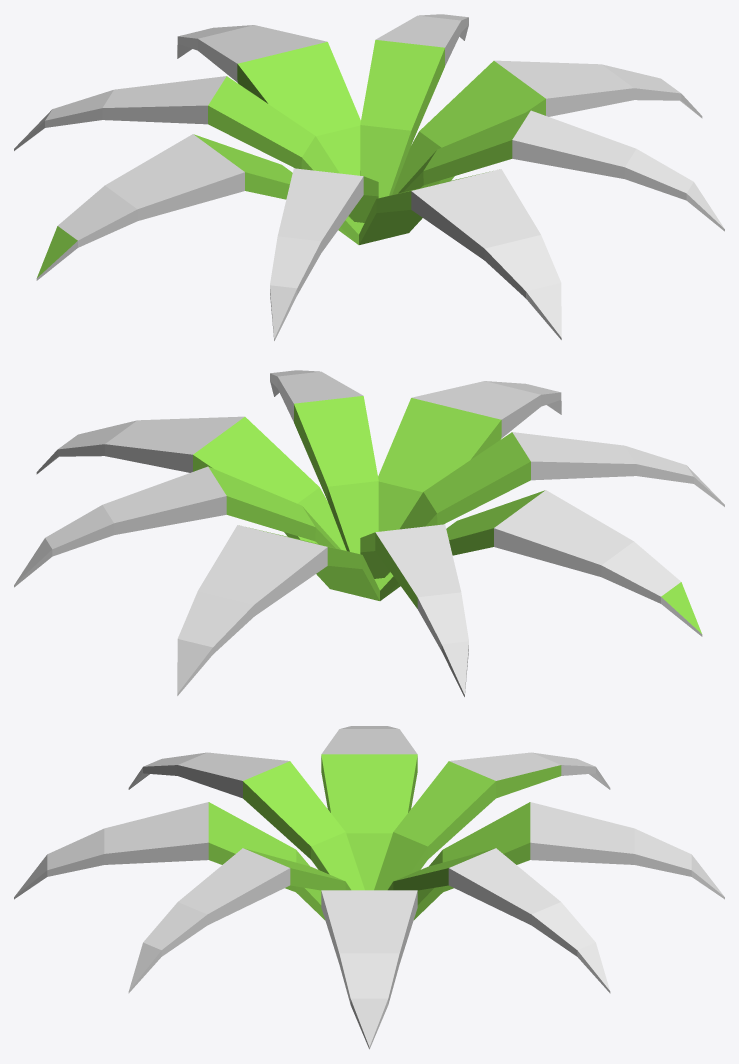
File: 003_Foliage_Plant_001.fbx
3 views of the same model, one above another, from view 1: azimuth 30°, elevation 25°; view 2: azimuth 150°, elevation 25°; view 3: azimuth 270°, elevation 25° (orthographic). The views are drawn at different scales.
Visible parts, largest first — view 1: Foliage Plant 001; view 2: Foliage Plant 001; view 3: Foliage Plant 001.
Boxes of the visible parts, x1=… form: Foliage Plant 001: x1=14, y1=14, x2=724, y2=340; Foliage Plant 001: x1=14, y1=370, x2=724, y2=696; Foliage Plant 001: x1=14, y1=726, x2=724, y2=1049.
Size of the model in its own units: 137 by 23.67 by 137.
